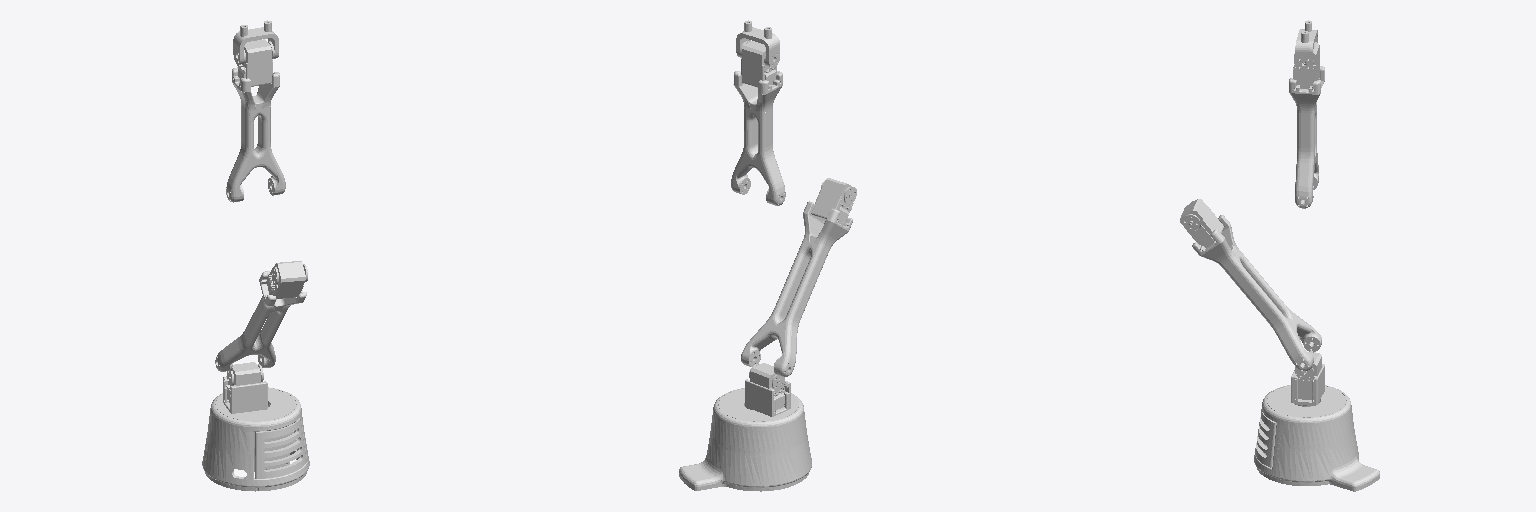
URDF robot description (Cobot):
<?xml version="1.0" encoding="utf-8"?>
<!-- This URDF was automatically created by SolidWorks to URDF Exporter! Originally created by Stephen Brawner (brawner@gmail.com) 
     Commit Version: 1.6.0-4-g7f85cfe  Build Version: 1.6.7995.38578
     For more information, please see http://wiki.ros.org/sw_urdf_exporter -->
<robot
  name="Cobot">
  <link
    name="base_link">
    <inertial>
      <origin
        xyz="0.00525395666776162 0.0408525795740504 -0.00282307452063939"
        rpy="0 0 0" />
      <mass
        value="0.262781517647469" />
      <inertia
        ixx="0.000298657832416568"
        ixy="2.03974185168871E-05"
        ixz="3.98921535405612E-05"
        iyy="0.000458204278092449"
        iyz="-1.86934752367561E-05"
        izz="0.000359003269018671" />
    </inertial>
    <visual>
      <origin
        xyz="0 0 0"
        rpy="0 0 0" />
      <geometry>
        <mesh
          filename="package://urdf/meshes/base_link.STL" />
      </geometry>
      <material
        name="">
        <color
          rgba="0.894117647058823 0.894117647058823 0.894117647058823 1" />
      </material>
    </visual>
    <collision>
      <origin
        xyz="0 0 0"
        rpy="0 0 0" />
      <geometry>
        <mesh
          filename="package://urdf/meshes/base_link.STL" />
      </geometry>
    </collision>
  </link>
  <link
    name="Link1">
    <inertial>
      <origin
        xyz="0.01271 6.5408E-05 0.063242"
        rpy="0 0 0" />
      <mass
        value="0.065421" />
      <inertia
        ixx="2.0385E-05"
        ixy="-2.2621E-11"
        ixz="-3.5853E-08"
        iyy="2.1853E-05"
        iyz="3.9072E-07"
        izz="1.2097E-05" />
    </inertial>
    <visual>
      <origin
        xyz="0 0 0"
        rpy="0 0 0" />
      <geometry>
        <mesh
          filename="package://urdf/meshes/Link1.STL" />
      </geometry>
      <material
        name="">
        <color
          rgba="0.89412 0.89412 0.89412 1" />
      </material>
    </visual>
    <collision>
      <origin
        xyz="0 0 0"
        rpy="0 0 0" />
      <geometry>
        <mesh
          filename="package://urdf/meshes/Link1.STL" />
      </geometry>
    </collision>
  </link>
  <joint
    name="Joint0"
    type="revolute">
    <origin
      xyz="-0.012386 0.0016827 0.0463"
      rpy="0 0 -0.13503" />
    <parent
      link="base_link" />
    <child
      link="Link1" />
    <axis
      xyz="0 0 0" />
    <limit
      lower="0"
      upper="0"
      effort="1.47"
      velocity="4.7123" />
  </joint>
  <link
    name="Link2">
    <inertial>
      <origin
        xyz="0.0124466636587925 -5.95941678555704E-05 0.116365819603615"
        rpy="0 0 0" />
      <mass
        value="0.126238291044564" />
      <inertia
        ixx="0.000260048350322063"
        ixy="-1.56028724960849E-11"
        ixz="2.53370157988681E-08"
        iyy="0.000276157182133765"
        iyz="-1.44827890234785E-10"
        izz="2.72102296500098E-05" />
    </inertial>
    <visual>
      <origin
        xyz="0 0 0"
        rpy="0 0 0" />
      <geometry>
        <mesh
          filename="package://urdf/meshes/Link2.STL" />
      </geometry>
      <material
        name="">
        <color
          rgba="0.894117647058823 0.894117647058823 0.894117647058823 1" />
      </material>
    </visual>
    <collision>
      <origin
        xyz="0 0 0"
        rpy="0 0 0" />
      <geometry>
        <mesh
          filename="package://urdf/meshes/Link2.STL" />
      </geometry>
    </collision>
  </link>
  <joint
    name="Joint1"
    type="revolute">
    <origin
      xyz="0 0.00062634 0.0889"
      rpy="0 0 0" />
    <parent
      link="Link1" />
    <child
      link="Link2" />
    <axis
      xyz="1 0 0" />
    <limit
      lower="0"
      upper="0"
      effort="1.47"
      velocity="4.7123" />
  </joint>
  <link
    name="Link3">
    <inertial>
      <origin
        xyz="0.0125559189956351 -6.67246436310775E-05 0.0947095307629157"
        rpy="0 0 0" />
      <mass
        value="0.11268362796461" />
      <inertia
        ixx="0.000157659793468441"
        ixy="-3.22653920261203E-10"
        ixz="-9.84402629564098E-09"
        iyy="0.000174514600376214"
        iyz="-3.89233565336632E-09"
        izz="2.72715738576209E-05" />
    </inertial>
    <visual>
      <origin
        xyz="0 0 0"
        rpy="0 0 0" />
      <geometry>
        <mesh
          filename="package://urdf/meshes/Link3.STL" />
      </geometry>
      <material
        name="">
        <color
          rgba="0.894117647058823 0.894117647058823 0.894117647058823 1" />
      </material>
    </visual>
    <collision>
      <origin
        xyz="0 0 0"
        rpy="0 0 0" />
      <geometry>
        <mesh
          filename="package://urdf/meshes/Link3.STL" />
      </geometry>
    </collision>
  </link>
  <joint
    name="Joint2"
    type="revolute">
    <origin
      xyz="0 -0.00020923 0.2073"
      rpy="0 0 0" />
    <parent
      link="Link2" />
    <child
      link="Link3" />
    <axis
      xyz="1 0 0" />
    <limit
      lower="0"
      upper="0"
      effort="1.47"
      velocity="4.7123" />
  </joint>
  <link
    name="Link4">
    <inertial>
      <origin
        xyz="0.0127649372865127 2.64459189193867E-10 0.0152585681228609"
        rpy="0 0 0" />
      <mass
        value="0.0101757375861059" />
      <inertia
        ixx="1.50046840827186E-06"
        ixy="2.9336577622294E-12"
        ixz="-1.69292407282572E-12"
        iyy="4.12314608309214E-06"
        iyz="-2.95473556254146E-14"
        izz="3.23610424333155E-06" />
    </inertial>
    <visual>
      <origin
        xyz="0 0 0"
        rpy="0 0 0" />
      <geometry>
        <mesh
          filename="package://urdf/meshes/Link4.STL" />
      </geometry>
      <material
        name="">
        <color
          rgba="0.894117647058823 0.894117647058823 0.894117647058823 1" />
      </material>
    </visual>
    <collision>
      <origin
        xyz="0 0 0"
        rpy="0 0 0" />
      <geometry>
        <mesh
          filename="package://urdf/meshes/Link4.STL" />
      </geometry>
    </collision>
  </link>
  <joint
    name="Joint3"
    type="revolute">
    <origin
      xyz="0 -0.00020911 0.1673"
      rpy="0 0 0" />
    <parent
      link="Link3" />
    <child
      link="Link4" />
    <axis
      xyz="1 0 0" />
    <limit
      lower="0"
      upper="0"
      effort="1.47"
      velocity="4.7123" />
  </joint>
</robot>

--- Render facts (derived) ---
The picture shows the robot from 3 angles, left to right: view 1: azimuth 30°, elevation 25°; view 2: azimuth 150°, elevation 25°; view 3: azimuth 270°, elevation 25°; orthographic projection.
Model Cobot with 5 links and 4 joints (4 revolute), rooted at base_link, posed every joint at zero.
Links seen in each view (by area): view 1: base_link, Link3, Link2, Link1, Link4; view 2: base_link, Link2, Link3, Link1, Link4; view 3: base_link, Link2, Link3, Link1, Link4.
Link boxes in pixels (bbox=[...]): base_link: bbox=[202, 387, 309, 491]; Link3: bbox=[226, 39, 285, 202]; Link2: bbox=[215, 261, 307, 371]; Link1: bbox=[223, 362, 267, 413]; Link4: bbox=[233, 20, 278, 64]; base_link: bbox=[679, 388, 811, 491]; Link2: bbox=[741, 178, 856, 376]; Link3: bbox=[731, 41, 785, 205]; Link1: bbox=[745, 363, 790, 416]; Link4: bbox=[736, 20, 779, 67]; base_link: bbox=[1254, 385, 1379, 491]; Link2: bbox=[1180, 199, 1321, 371]; Link3: bbox=[1289, 42, 1324, 208]; Link1: bbox=[1291, 351, 1324, 406]; Link4: bbox=[1295, 20, 1317, 71].
Bounding box of the posed robot: 0.1302 × 0.2262 × 0.5448 m (x, y, z).
5 mesh visuals loaded from 5 distinct referenced files (5 binary STL).
